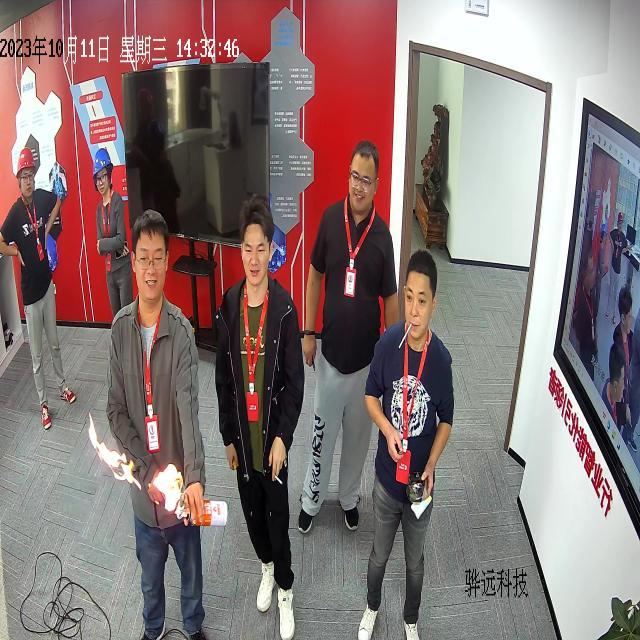Fire: (88, 412, 134, 483), (154, 466, 182, 518)
